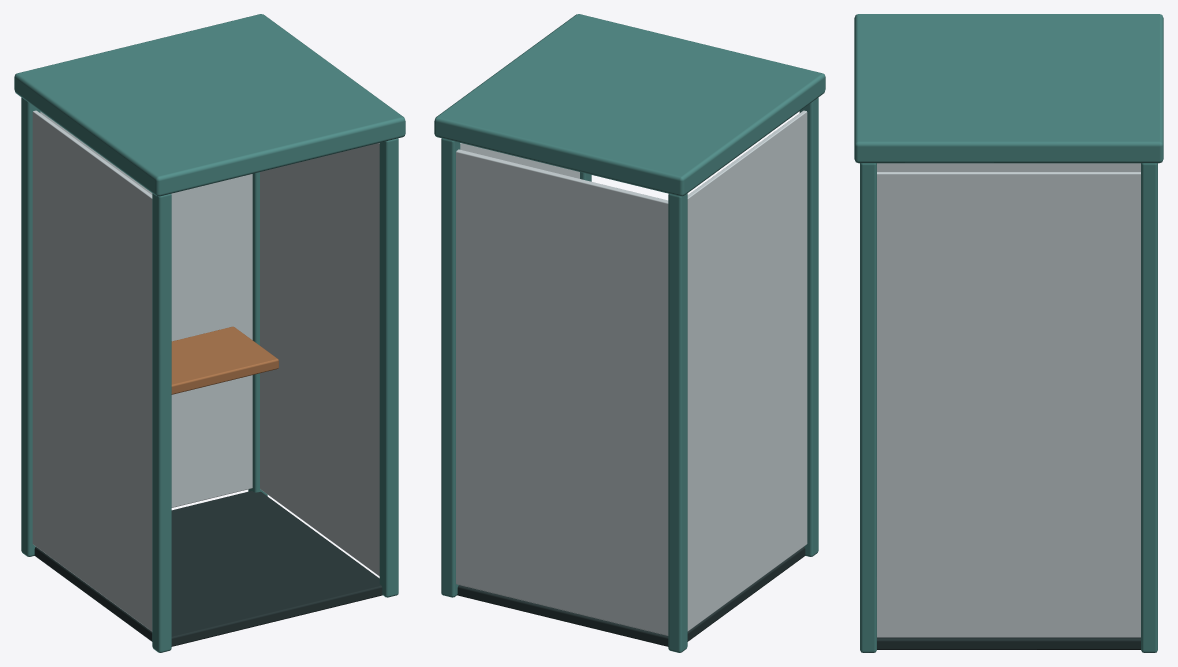
The model's file is wp-cabine-acoustique.glb.
The picture shows the model from 3 angles, left to right: view 1: azimuth 30°, elevation 25°; view 2: azimuth 150°, elevation 25°; view 3: azimuth 270°, elevation 25°; orthographic projection. The views are drawn at different scales.
Parts seen in each view (by area): view 1: wp-cabine-acoustique; view 2: wp-cabine-acoustique; view 3: wp-cabine-acoustique.
Part boxes in pixels (box(x1,y1,x2,y2)): wp-cabine-acoustique: box(14, 14, 405, 652); wp-cabine-acoustique: box(434, 14, 825, 652); wp-cabine-acoustique: box(854, 14, 1163, 652).
Size of the model in its own units: 1.2 by 2.2 by 1.2.
